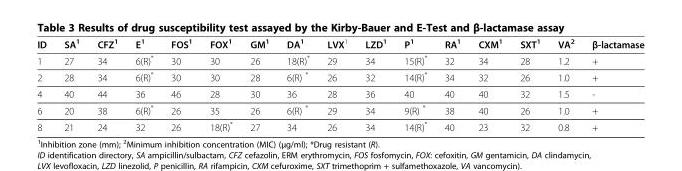table: (36, 36, 643, 132)
table column: (582, 36, 643, 132), (468, 36, 510, 132), (394, 36, 435, 132), (200, 36, 240, 132), (277, 36, 317, 132), (161, 36, 200, 132), (355, 36, 394, 132), (87, 36, 125, 132), (317, 36, 355, 132), (510, 36, 548, 132), (240, 36, 277, 132), (125, 36, 161, 132), (548, 36, 582, 132), (54, 36, 87, 132), (435, 36, 468, 132), (36, 36, 54, 132)
table column header: (36, 36, 643, 51)
table row: (36, 51, 643, 68), (36, 68, 643, 85), (36, 85, 643, 101), (36, 101, 643, 117), (36, 36, 643, 51), (36, 117, 643, 132)
